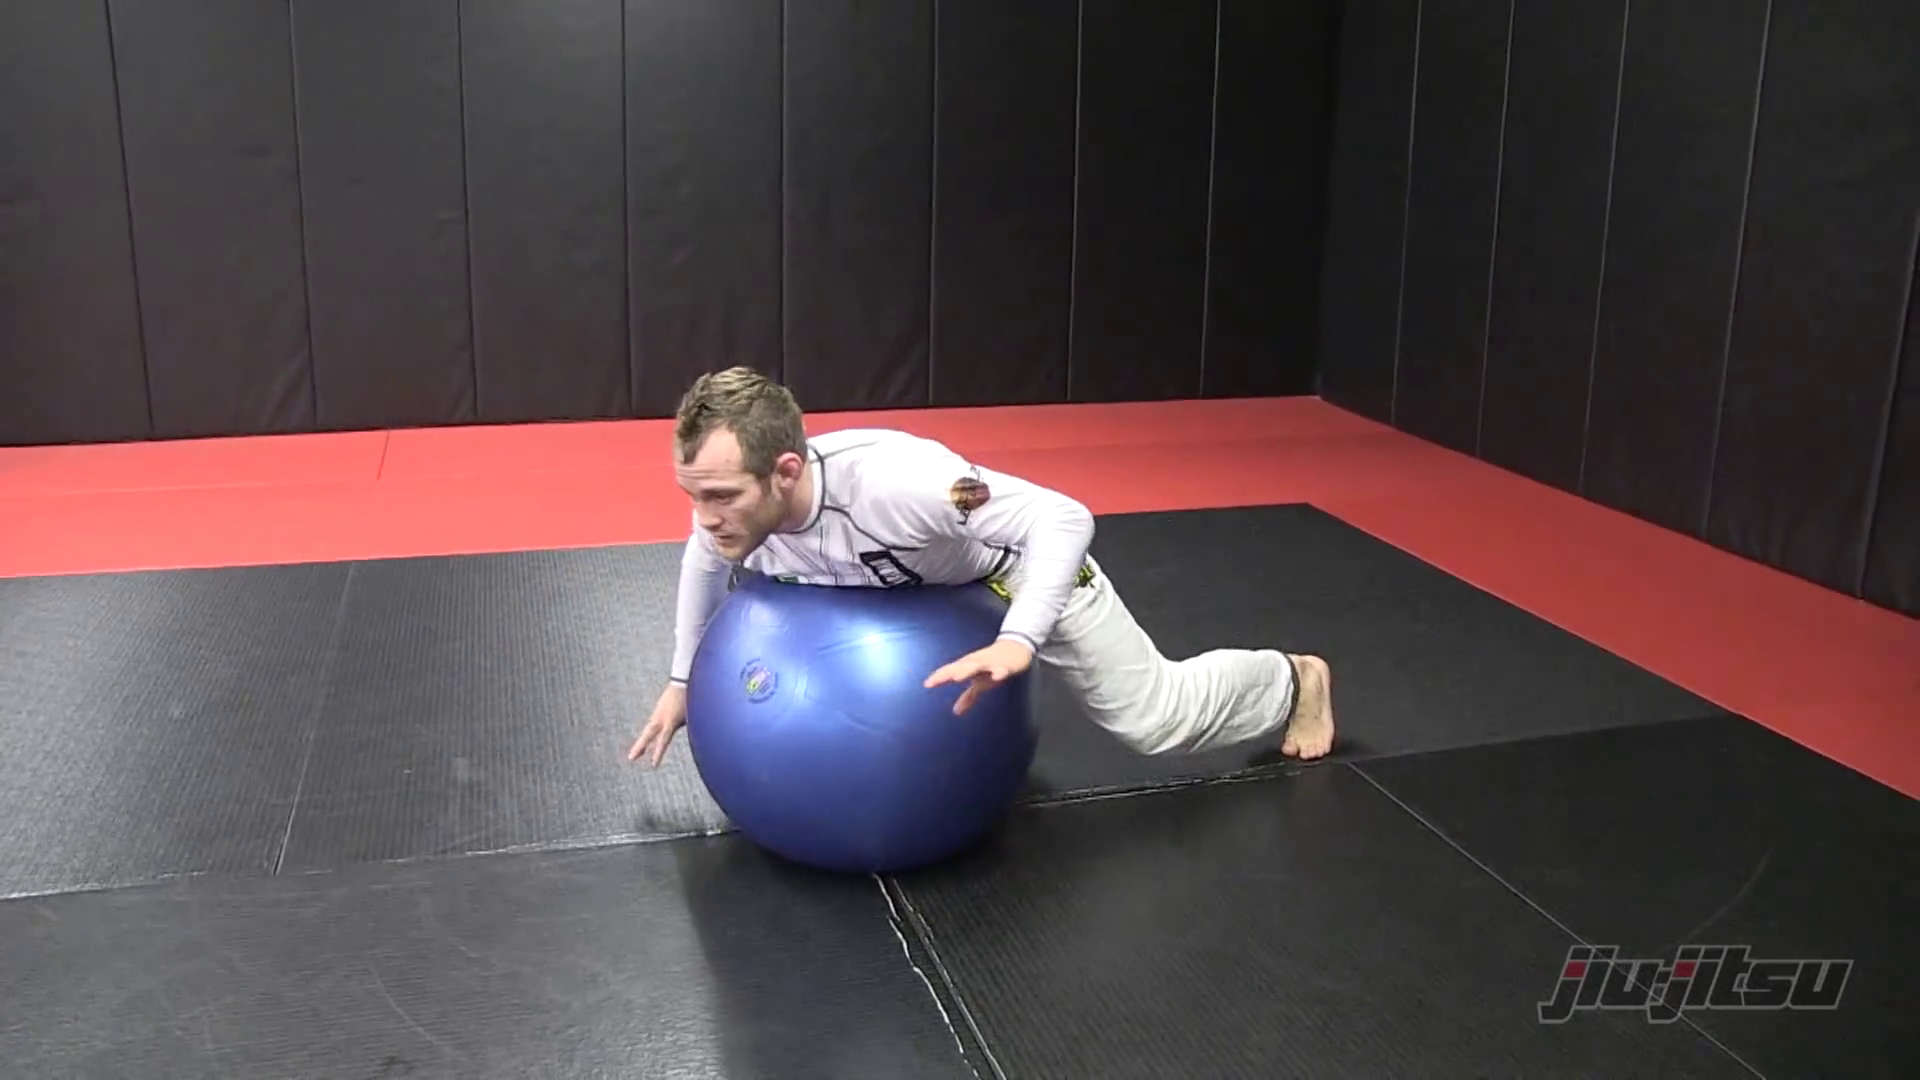yogaball: (676, 576, 1062, 889)
